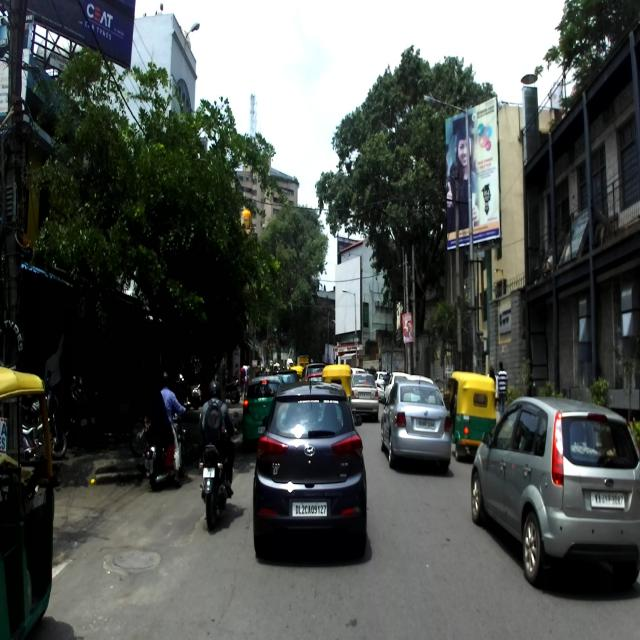autorickshaw: (0, 361, 59, 639)
car: (470, 396, 640, 585), (252, 381, 366, 561), (380, 378, 451, 474)
motorcycle: (198, 410, 238, 532), (142, 400, 190, 491)
